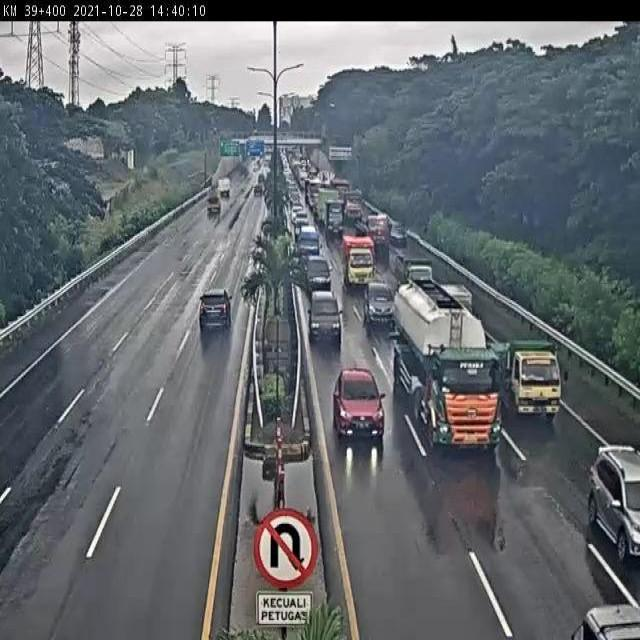car: (332, 371, 385, 441), (361, 280, 397, 329), (307, 288, 342, 337), (197, 291, 233, 331), (304, 253, 333, 292)
truck: (392, 285, 501, 447), (491, 338, 563, 414), (389, 244, 432, 288), (342, 236, 375, 289)
